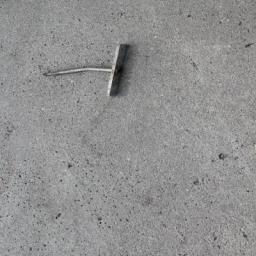FOD: (42, 43, 131, 100)
